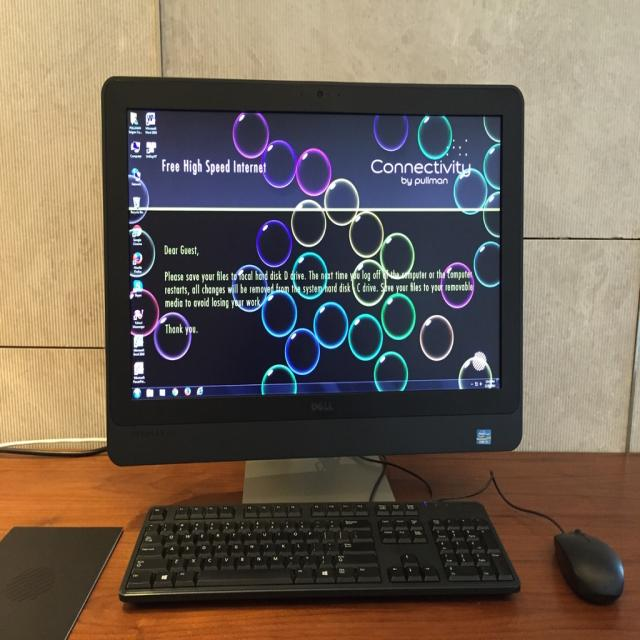Computer-mouse: (554, 526, 622, 608)
